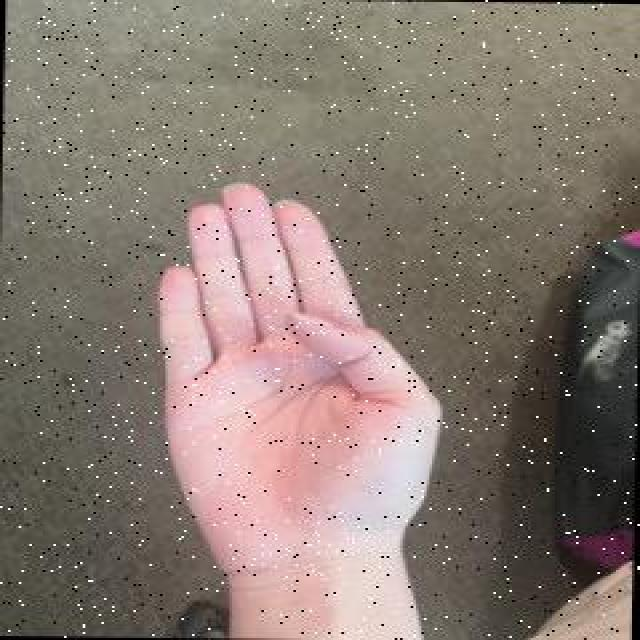B: (145, 175, 460, 591)
